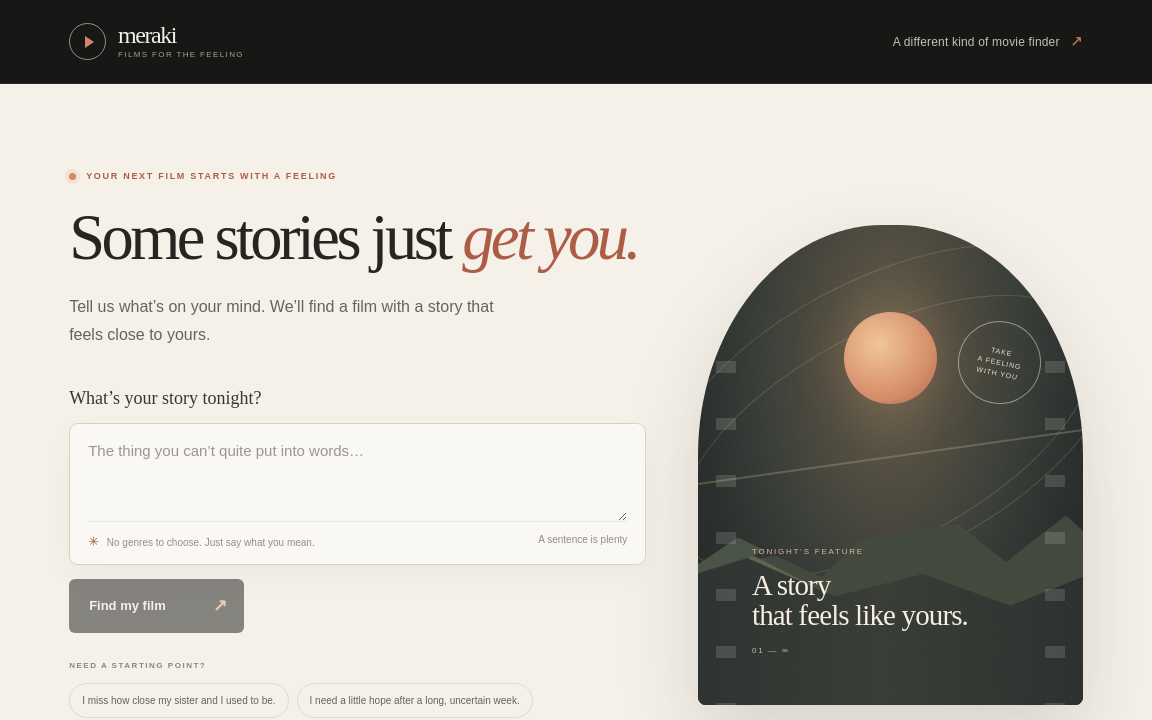
Scenario: story-first discovery page › lets someone use an example as their starting story
This screenshot has width=1152, height=720.
Click the button "I miss how close my sister and I used to be.". click: (179, 700)
box: [69,683,288,718]
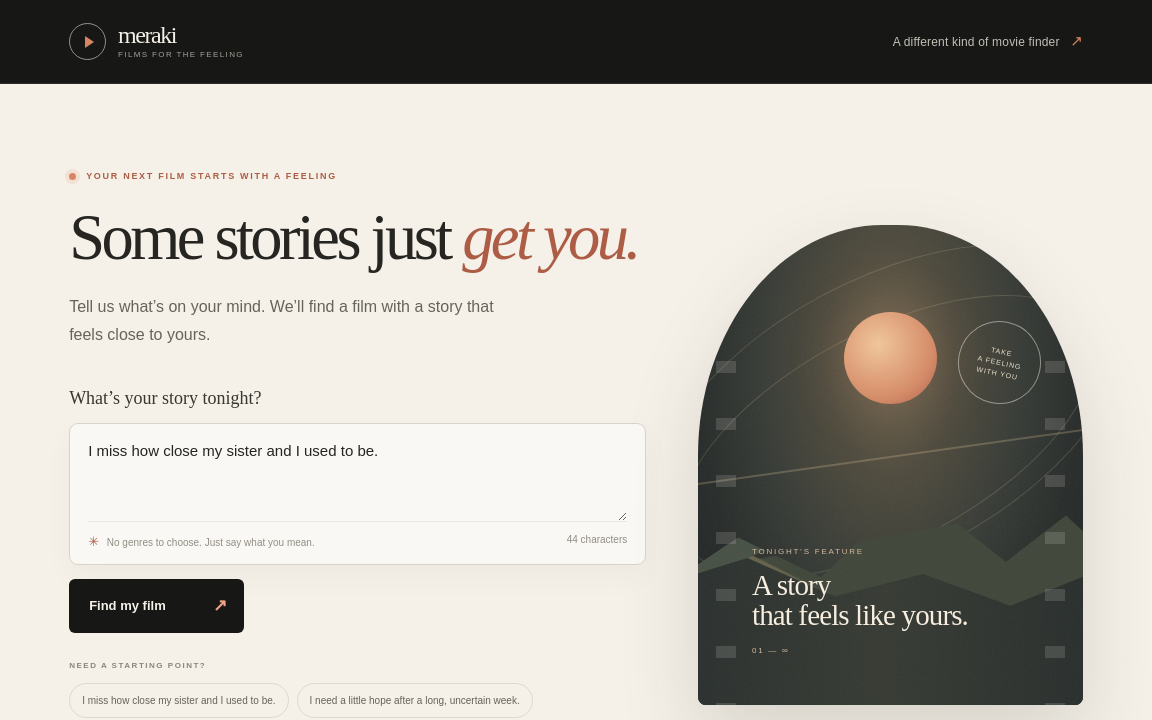
Result: the text box labelled "What’s your story tonight?" holds "I miss how close my sister and I used to be." at [88,439,627,521]
